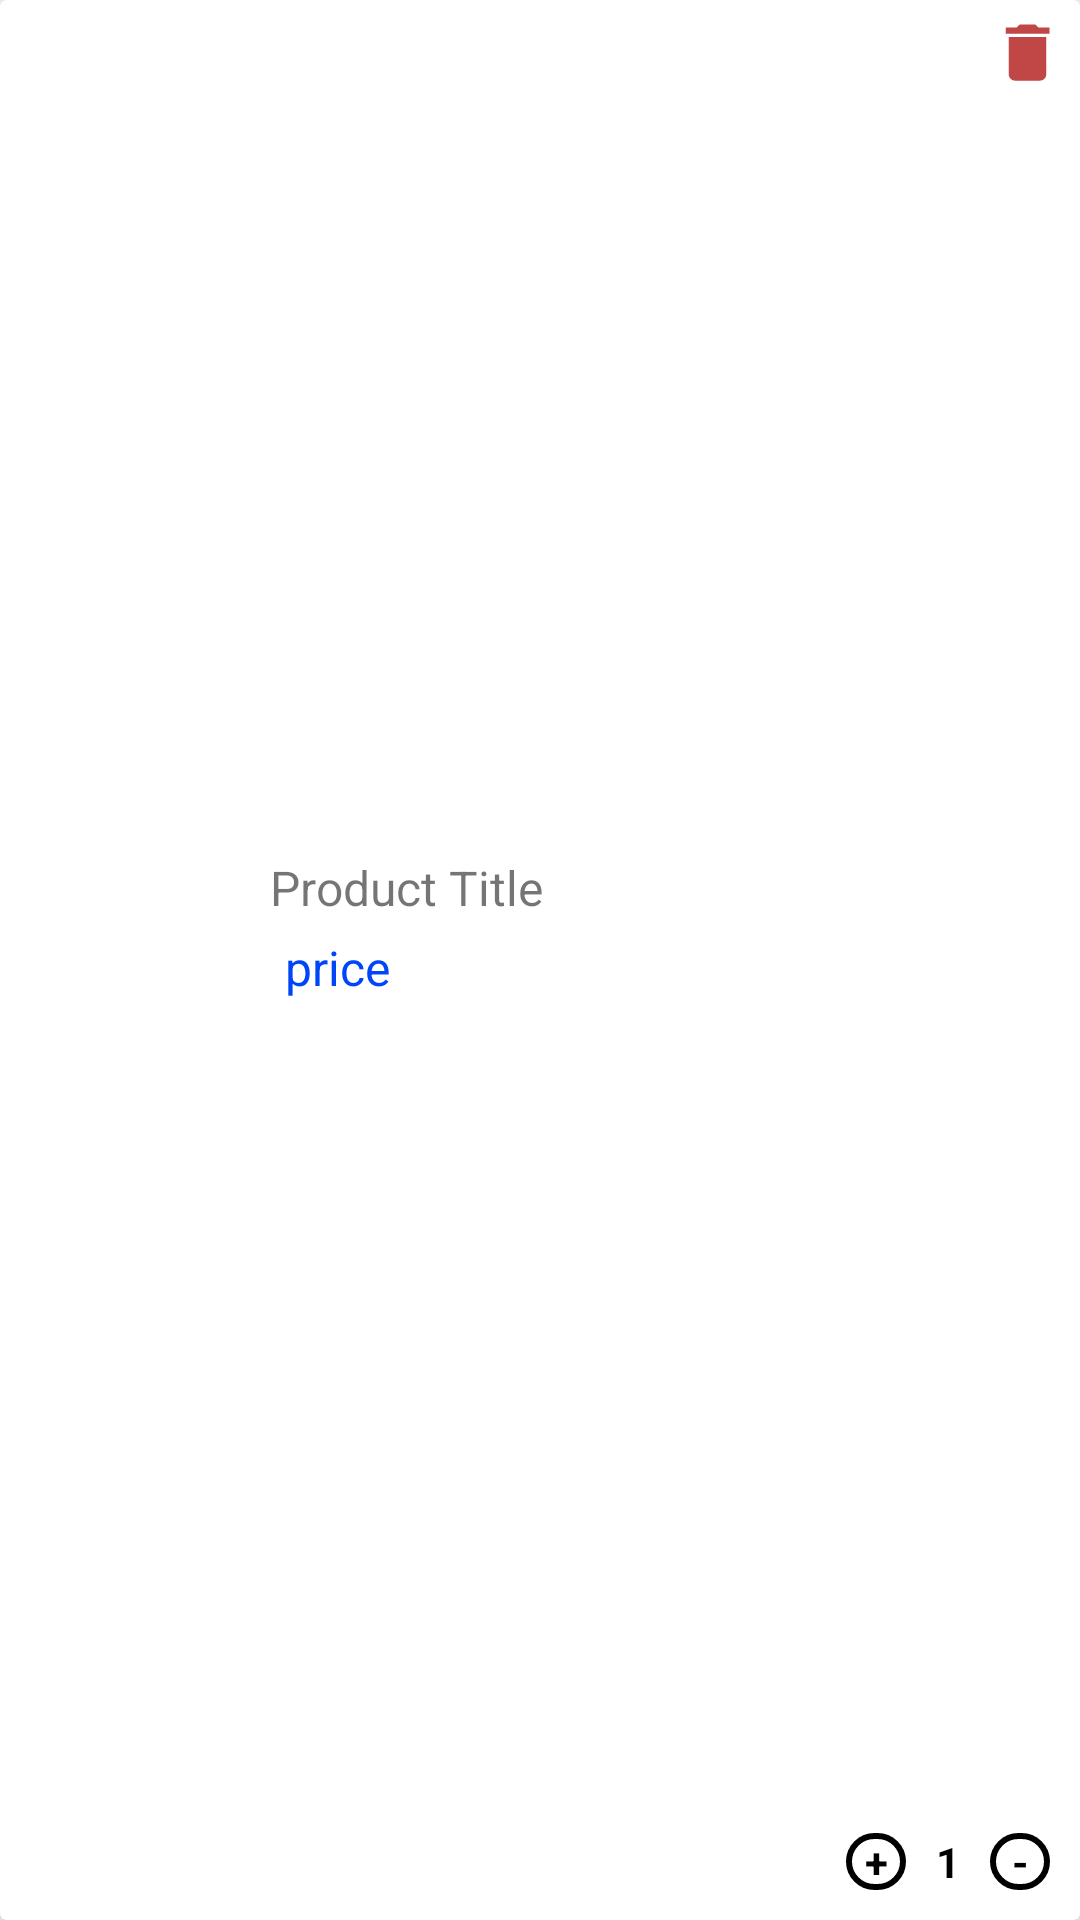

Named icons in this screenshot (1080w x 1920h) and their centers, (x,y):
delete: (1027,52)
